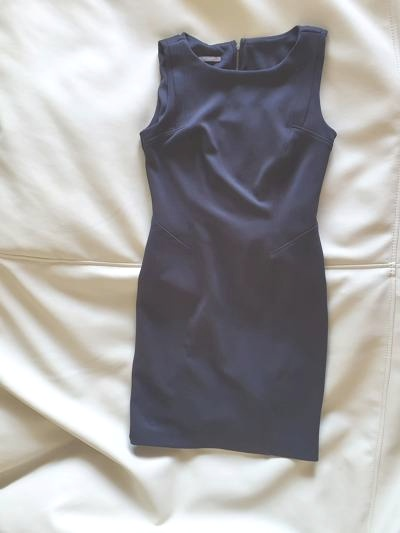Dress: (89, 13, 364, 455)
